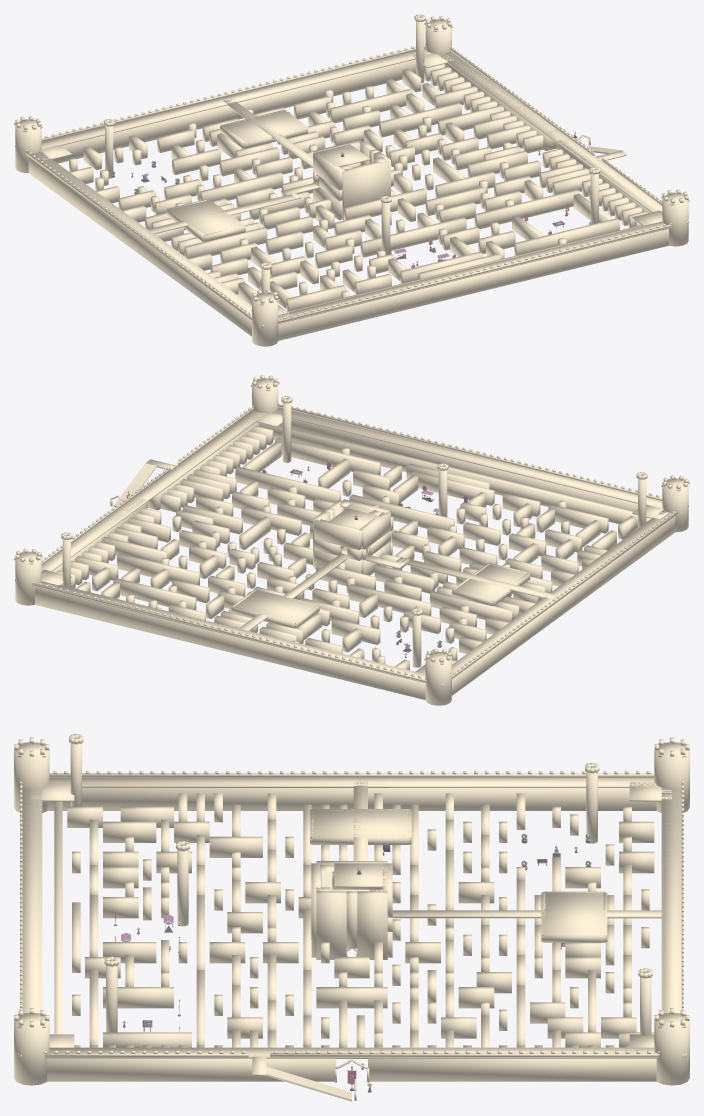
Rendered from castle_shadow.glb.
3 views of the same model, one above another, from view 1: azimuth 30°, elevation 25°; view 2: azimuth 150°, elevation 25°; view 3: azimuth 270°, elevation 25° (orthographic). The views are drawn at different scales.
Visible parts, largest first — view 1: castle_shadow_surface; view 2: castle_shadow_surface; view 3: castle_shadow_surface.
Part boxes in pixels (box(x1,y1,x2,y2)): castle_shadow_surface: box(14, 14, 689, 346); castle_shadow_surface: box(14, 375, 689, 705); castle_shadow_surface: box(14, 734, 689, 1101).
Size of the model in its own units: 200 by 27.9 by 190.
